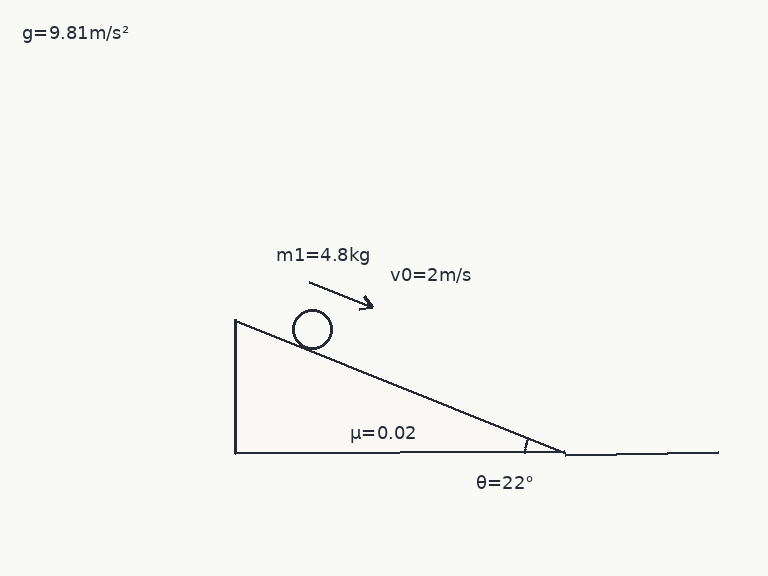ball: (290, 307, 334, 351)
ramp: (233, 318, 567, 455)
